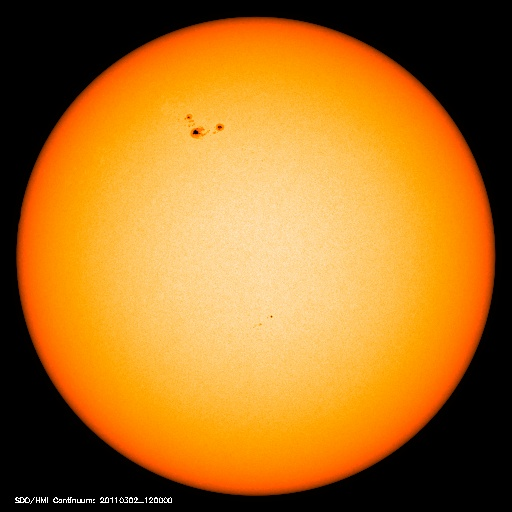sunspot: (176, 107, 228, 143), (248, 305, 280, 326)
